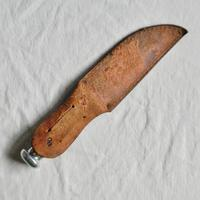knife: (14, 11, 184, 172)
